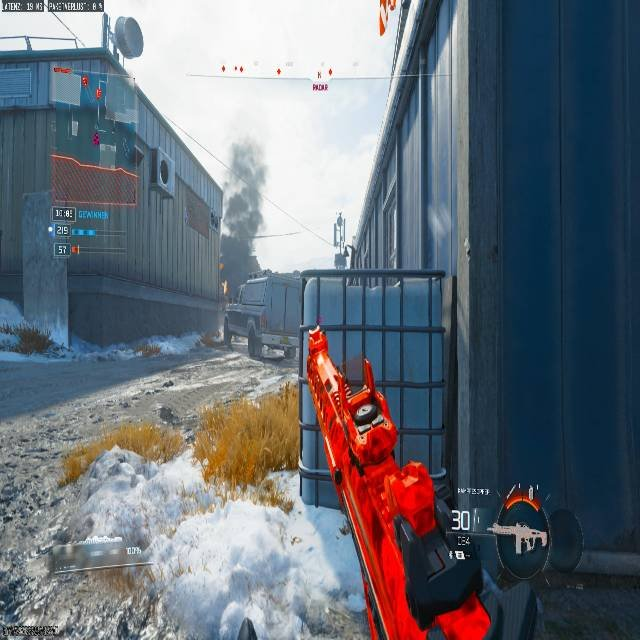player: (308, 327, 328, 379)
